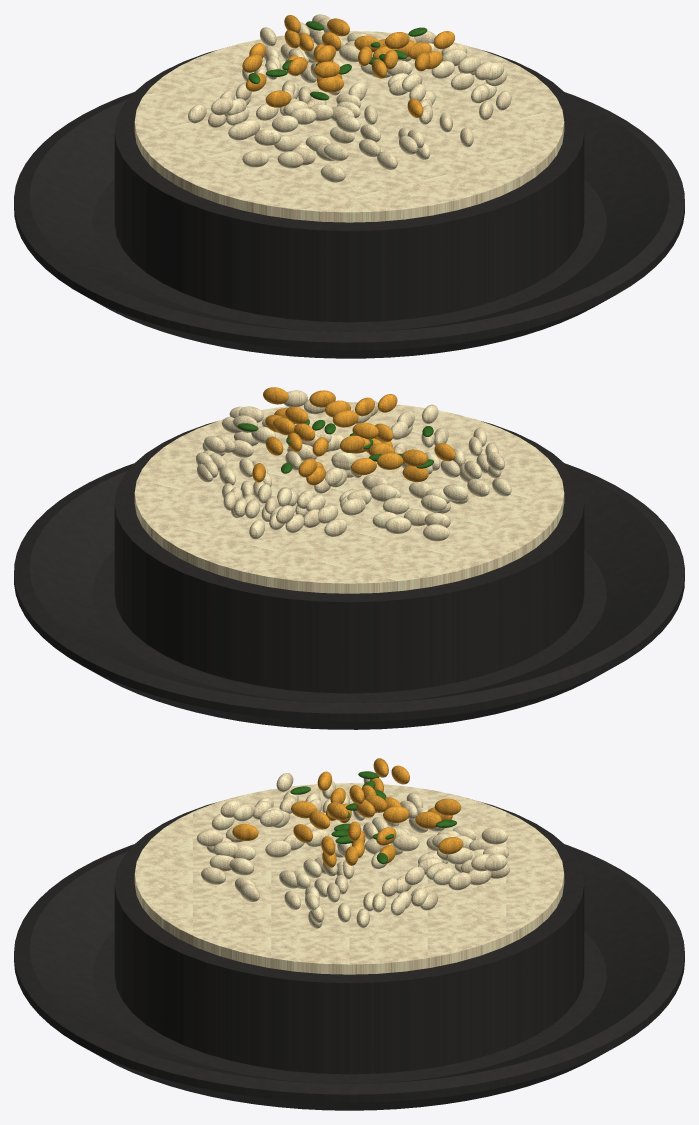
File: arroz-coco.glb
The picture shows the model from 3 angles, top to bottom: view 1: azimuth 30°, elevation 25°; view 2: azimuth 150°, elevation 25°; view 3: azimuth 270°, elevation 25°; orthographic projection.
Parts seen in each view (by area): view 1: part2, part1, part0, part3, part4; view 2: part2, part1, part0, part3, part4; view 3: part2, part1, part0, part3, part4.
Part boxes in pixels (x1,y1,x2,y2): part2: (134,14,564,222); part1: (114,50,584,322); part0: (14,92,684,358); part3: (242,15,454,117); part4: (248,21,427,100); part2: (134,390,564,593); part1: (114,421,584,693); part0: (14,463,684,729); part3: (252,387,455,485); part4: (237,419,433,473); part2: (134,771,564,974); part1: (114,802,584,1074); part0: (14,844,684,1110); part3: (232,758,463,867); part4: (290,771,456,863).
Bounding box in the file's own units: 0.3 × 0.1002 × 0.3.
5 materials, 5 textured.
